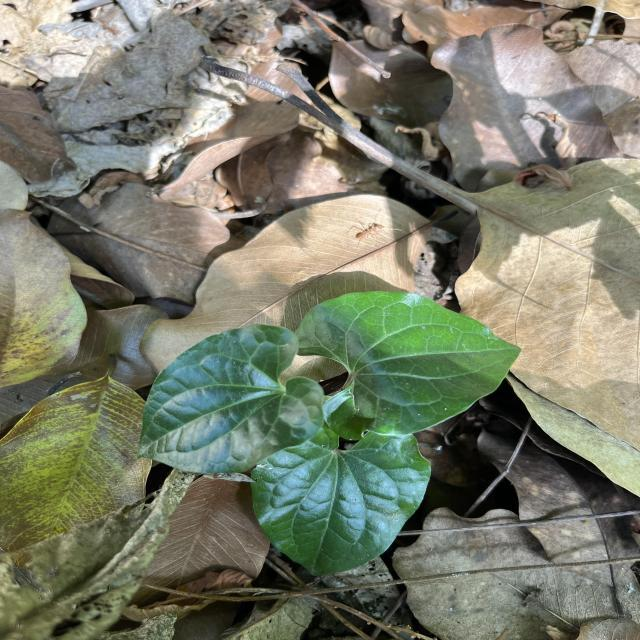Piper longum: (293, 289, 524, 443), (134, 322, 326, 475), (248, 431, 434, 578)
